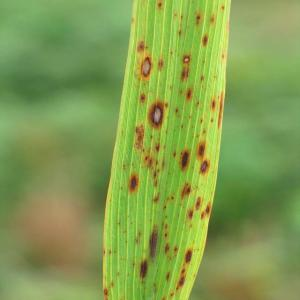Brown_Spot: (146, 221, 162, 262), (214, 85, 227, 135), (145, 101, 166, 131), (123, 169, 143, 199), (138, 53, 154, 83), (177, 179, 196, 203), (132, 123, 147, 153), (136, 256, 151, 285), (178, 147, 191, 175), (193, 138, 208, 162), (174, 273, 189, 292), (199, 30, 212, 51), (198, 157, 211, 178), (182, 246, 195, 267), (202, 199, 215, 217), (185, 85, 195, 104), (184, 207, 196, 222), (193, 195, 203, 213), (163, 269, 174, 284), (207, 11, 217, 27), (181, 52, 192, 66), (209, 97, 218, 114), (193, 13, 203, 28), (162, 242, 172, 257), (100, 285, 112, 297), (152, 176, 161, 192), (151, 191, 161, 205), (156, 57, 165, 72), (198, 209, 207, 224), (175, 25, 184, 39), (149, 286, 163, 295), (178, 265, 190, 275), (160, 156, 167, 173), (136, 40, 145, 53), (146, 157, 154, 171), (138, 92, 147, 104), (131, 237, 143, 246), (150, 167, 159, 179), (197, 73, 207, 83), (155, 1, 164, 11), (218, 2, 227, 12), (153, 143, 162, 153), (161, 221, 170, 231), (161, 231, 171, 240), (105, 197, 115, 206), (100, 248, 108, 259), (169, 289, 177, 300), (197, 117, 206, 126), (200, 127, 209, 136), (114, 269, 123, 278), (171, 245, 181, 253), (129, 15, 137, 25), (129, 160, 137, 170), (139, 145, 147, 155), (212, 71, 220, 81), (168, 48, 175, 59), (171, 149, 178, 160), (163, 99, 170, 110), (219, 53, 227, 62), (168, 193, 176, 202), (161, 203, 169, 212), (162, 214, 171, 222), (171, 252, 180, 260), (167, 83, 175, 92), (118, 184, 126, 193), (136, 230, 144, 239), (101, 294, 113, 300), (153, 156, 159, 168), (187, 111, 195, 120), (173, 105, 180, 115), (125, 269, 132, 279), (109, 279, 116, 289), (175, 211, 182, 221), (195, 244, 202, 254), (123, 239, 131, 247), (200, 58, 207, 67), (195, 99, 202, 108), (107, 248, 114, 257), (178, 87, 184, 97), (159, 295, 171, 300), (178, 13, 185, 21), (209, 117, 216, 125), (188, 222, 195, 230), (148, 133, 155, 141), (121, 163, 128, 171), (192, 272, 199, 280), (143, 153, 149, 162), (162, 142, 168, 151), (172, 12, 179, 19), (131, 262, 138, 269), (154, 267, 161, 274), (151, 281, 158, 288), (190, 123, 197, 130), (179, 123, 185, 131), (117, 220, 123, 227), (129, 221, 135, 227)
